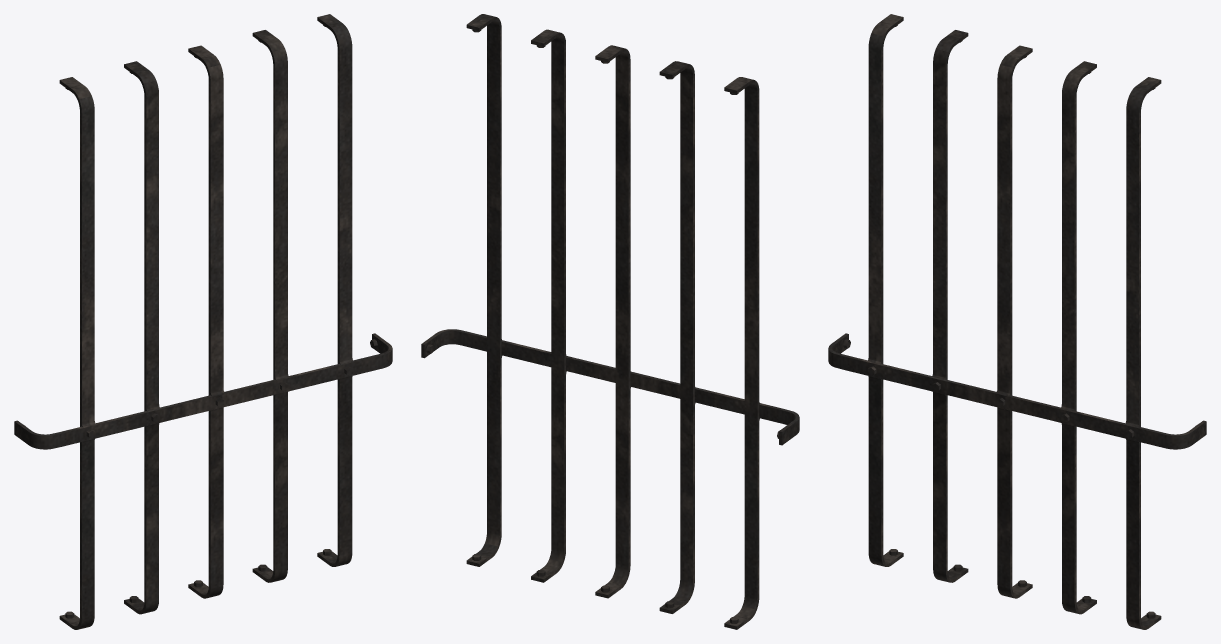
The model's file is window_metal_bars_single.fbx.
The picture shows the model from 3 angles, left to right: view 1: azimuth 30°, elevation 25°; view 2: azimuth 150°, elevation 25°; view 3: azimuth 330°, elevation 25°; orthographic projection.
Visible parts, largest first — view 1: window_metal_bars_single; view 2: window_metal_bars_single; view 3: window_metal_bars_single.
Part boxes in pixels (x1=…): window_metal_bars_single: x1=14, y1=14, x2=392, y2=629; window_metal_bars_single: x1=421, y1=14, x2=799, y2=629; window_metal_bars_single: x1=828, y1=14, x2=1206, y2=629.
Bounding box in the file's own units: 1.12 × 0.141 × 1.6.
